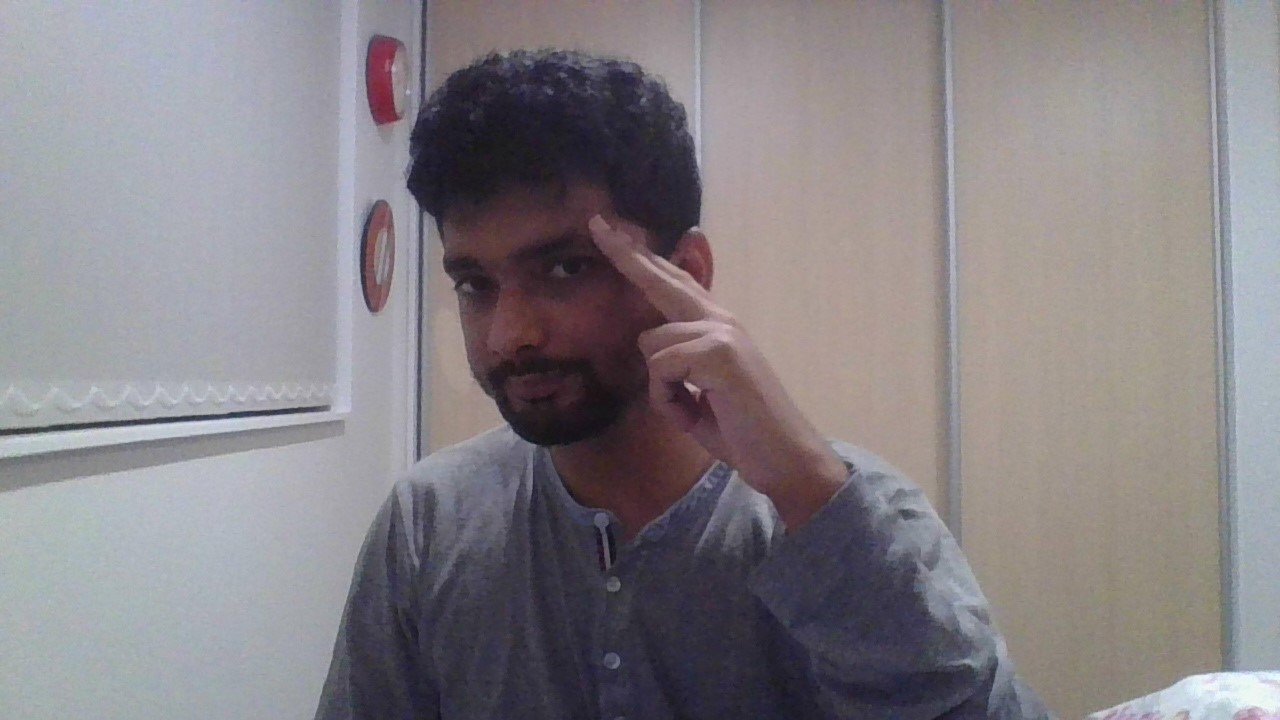peace: (586, 212, 818, 495)
